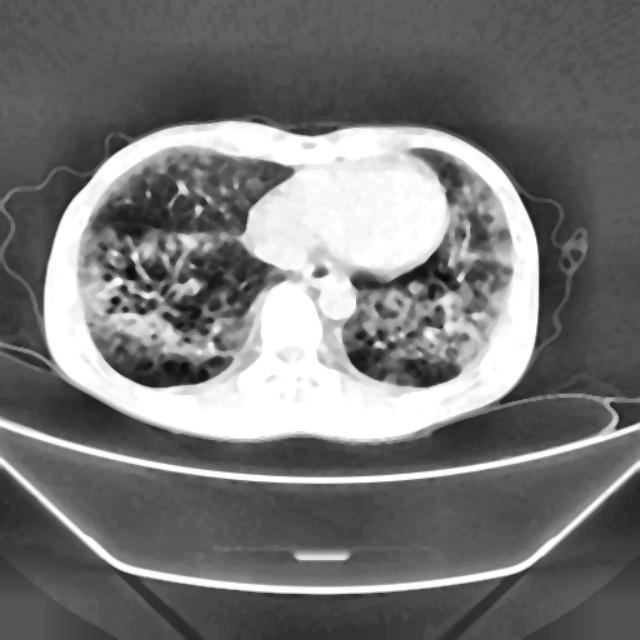covid: (42, 117, 540, 444)
